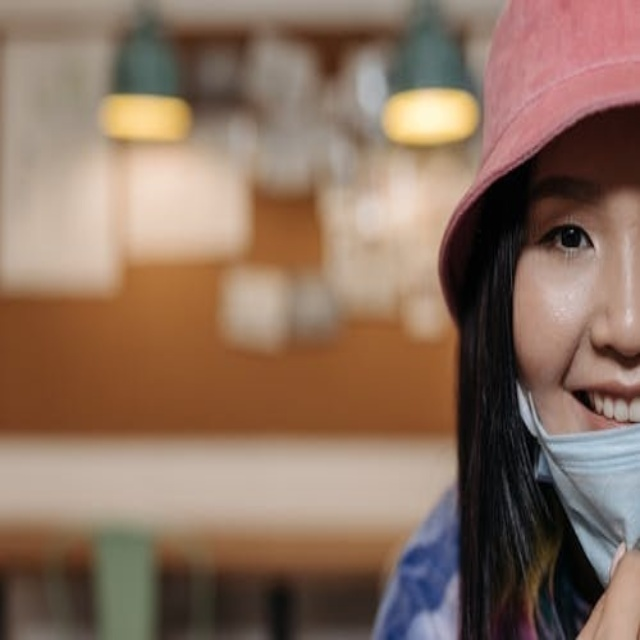Sin_gafas: (527, 167, 631, 287)
Sin_mascara: (567, 382, 640, 431)
